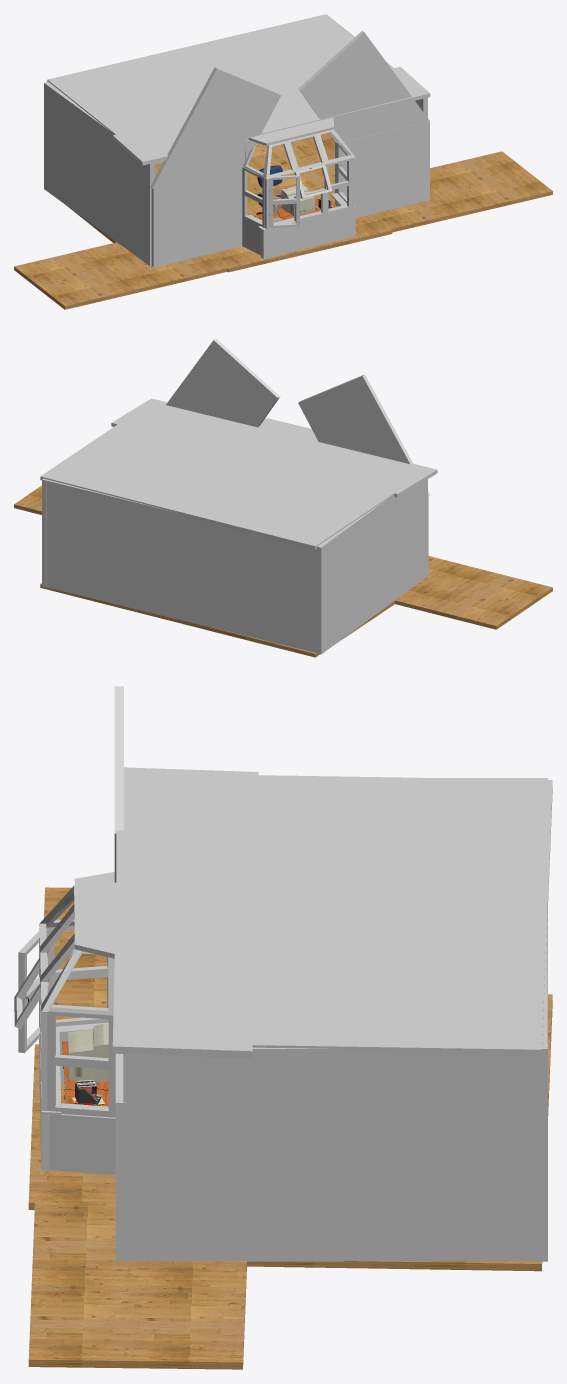
Rendered from scene_old.glb.
The picture shows the model from 3 angles, top to bottom: view 1: azimuth 30°, elevation 25°; view 2: azimuth 150°, elevation 25°; view 3: azimuth 270°, elevation 25°; orthographic projection. The views are drawn at different scales.
Parts seen in each view (by area): view 1: floor.005, floor.001, Cube.024, Cube.035, Cube.031, Cube.017, hinge, crt, Cube.019, Cube.028, Cube.027, Cube.006 (+3 smaller); view 2: floor.005, Cube.041, Cube.031, floor.001, Cube.024, Cube.035, Cube.029, hinge; view 3: floor.005, Cube.038, floor.001, Cube.018, hinge, Cube.035, Cube.021, crt, Cube.024, Cube.010, Cube.009, Cube.020 (+2 smaller).
Boxes of the visible parts, x1,y1,x2,y2 form: floor.005: (47,14,430,165); floor.001: (14,132,552,309); Cube.024: (150,67,280,267); Cube.035: (298,31,429,217); Cube.031: (44,81,154,266); Cube.017: (261,208,355,258); hinge: (248,117,333,145); crt: (281,184,314,215); Cube.019: (242,219,260,255); Cube.028: (265,141,295,179); Cube.027: (287,133,325,171); Cube.006: (269,175,299,202); floor.005: (40,398,437,549); Cube.041: (47,481,316,652); Cube.031: (316,479,427,654); floor.001: (14,485,552,657); Cube.024: (298,374,429,574); Cube.035: (166,338,280,427); Cube.029: (42,478,46,587); hinge: (260,418,316,439); floor.005: (112,767,552,1058); Cube.038: (123,1049,547,1261); floor.001: (28,887,552,1369); Cube.018: (49,1114,115,1174); hinge: (74,872,116,958); Cube.035: (116,830,125,1102); Cube.021: (115,1054,126,1260); crt: (68,1024,108,1081); Cube.024: (114,686,123,882); Cube.010: (47,1061,115,1115); Cube.009: (47,1011,115,1065); Cube.020: (40,934,81,1011).
Bounding box in the file's own units: 10.53 × 3.87 × 5.05.
Materials: 37 (27 with a texture image).
